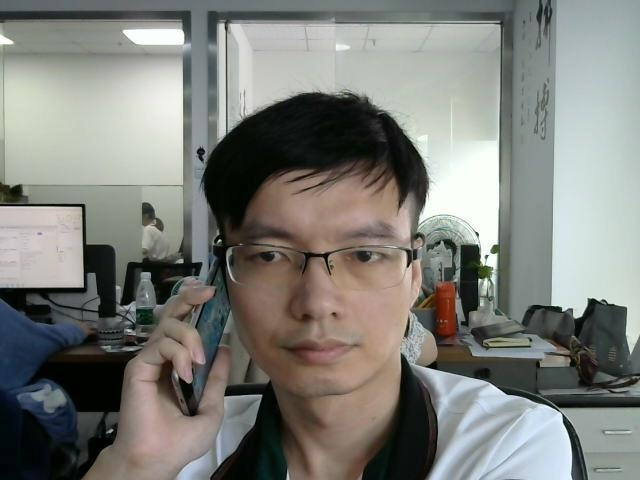hand: (124, 283, 238, 450)
